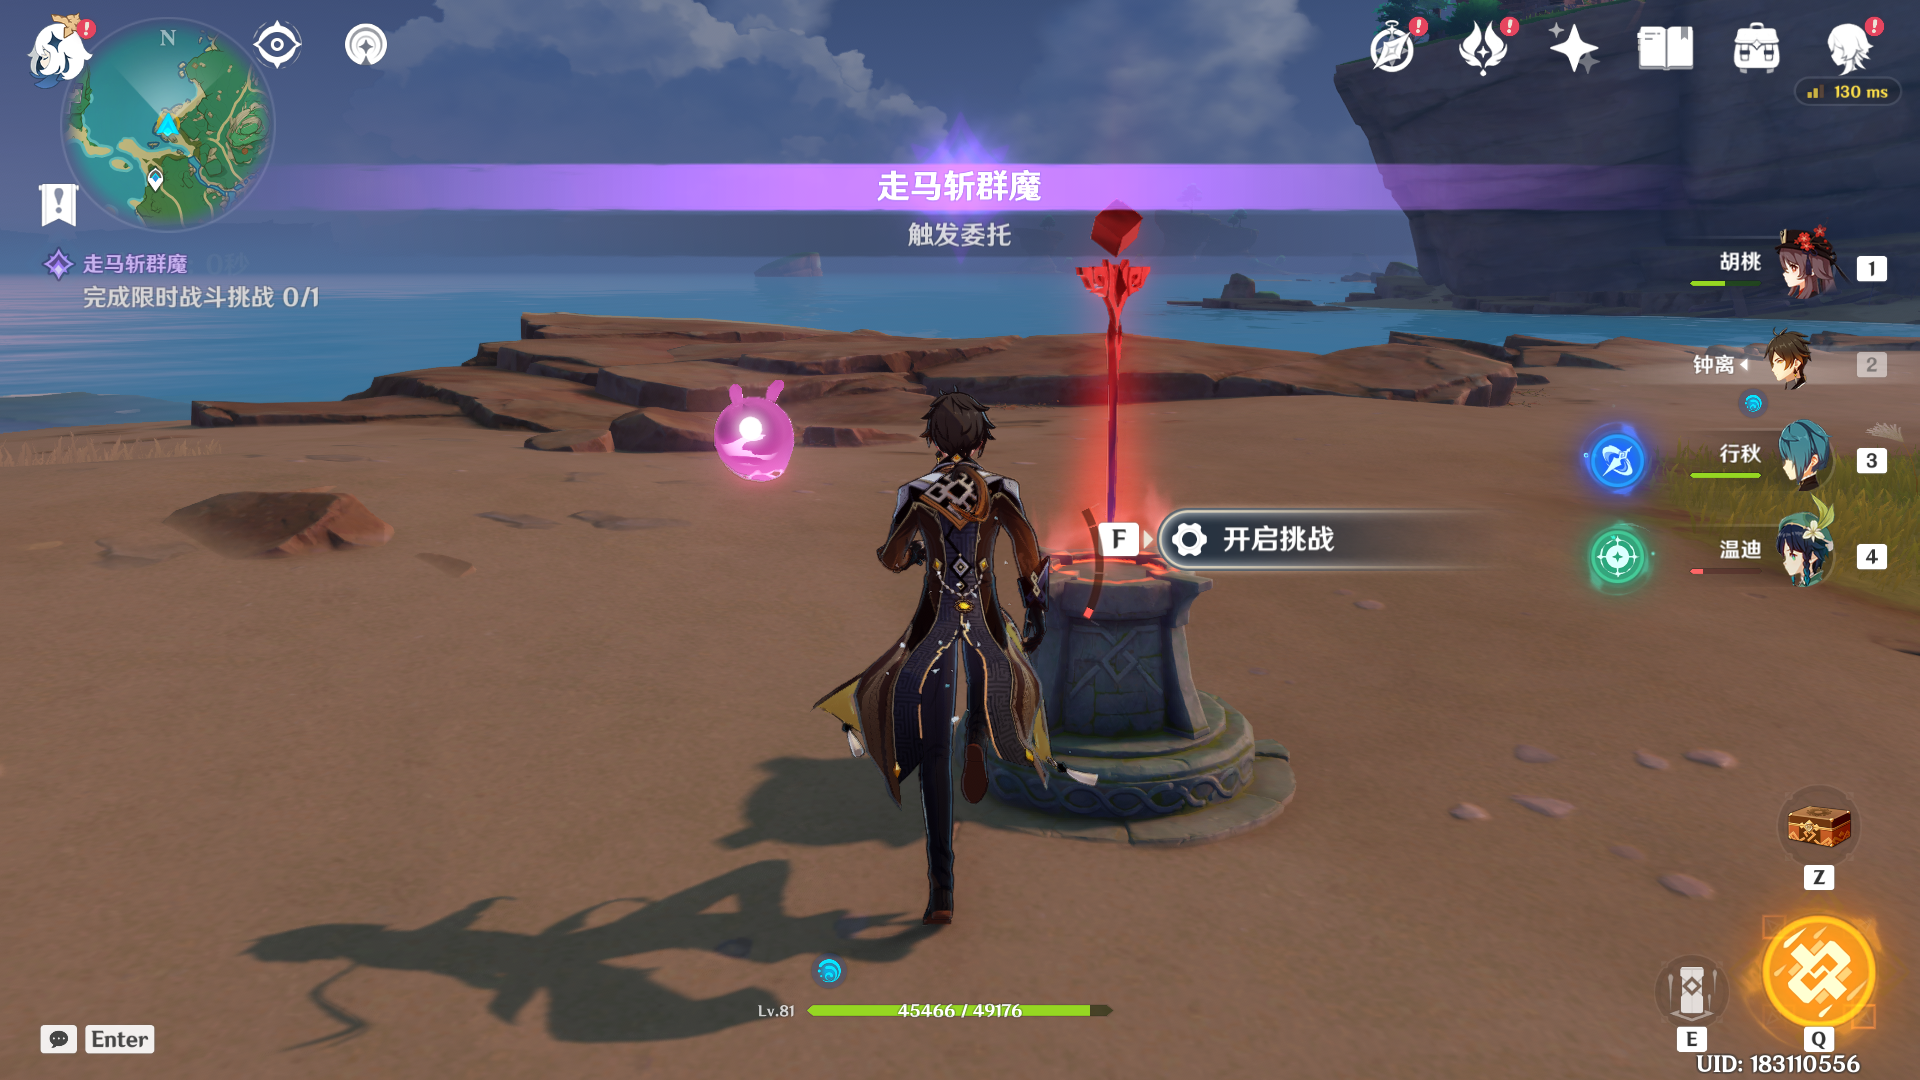character: (827, 363, 1147, 942)
